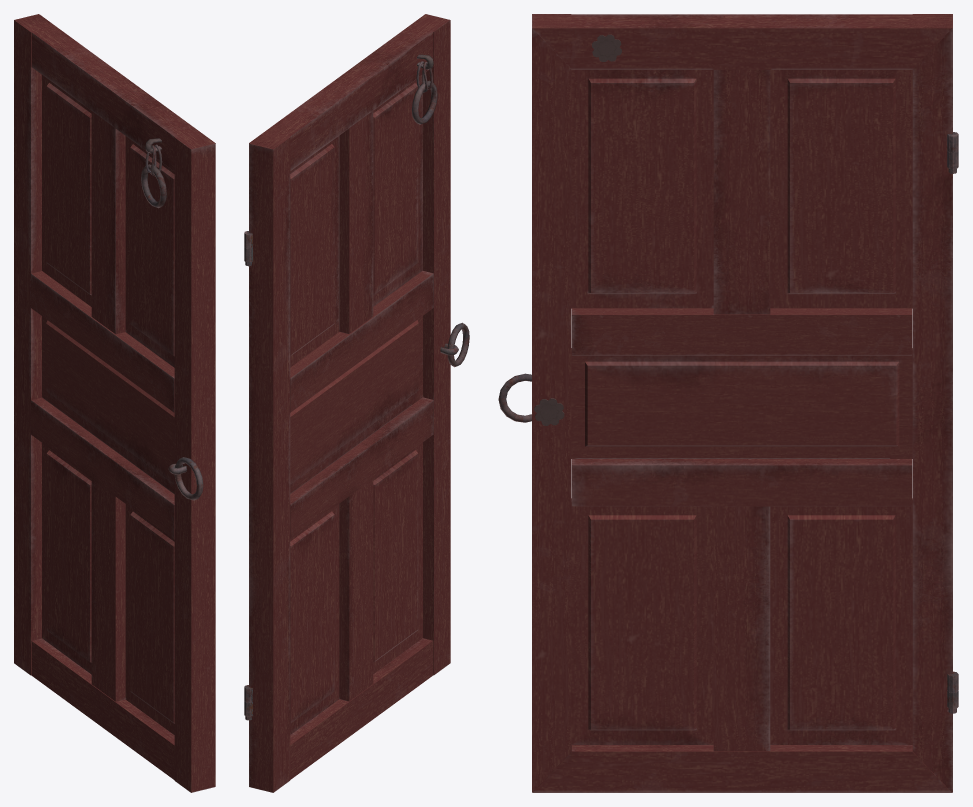
File: SM_Door01b.fbx
The picture shows the model from 3 angles, left to right: view 1: azimuth 30°, elevation 25°; view 2: azimuth 150°, elevation 25°; view 3: azimuth 270°, elevation 25°; orthographic projection. The views are drawn at different scales.
Parts seen in each view (by area): view 1: SM_Door01b; view 2: SM_Door01b; view 3: SM_Door01b.
Boxes of the visible parts, left/top/right/bottom form: SM_Door01b: left=14, top=14, right=215, bottom=792; SM_Door01b: left=244, top=14, right=469, bottom=792; SM_Door01b: left=498, top=14, right=958, bottom=792.
Size of the model in its own units: 7.01 by 54.54 by 100.
Materials: 1 (1 with a texture image).
